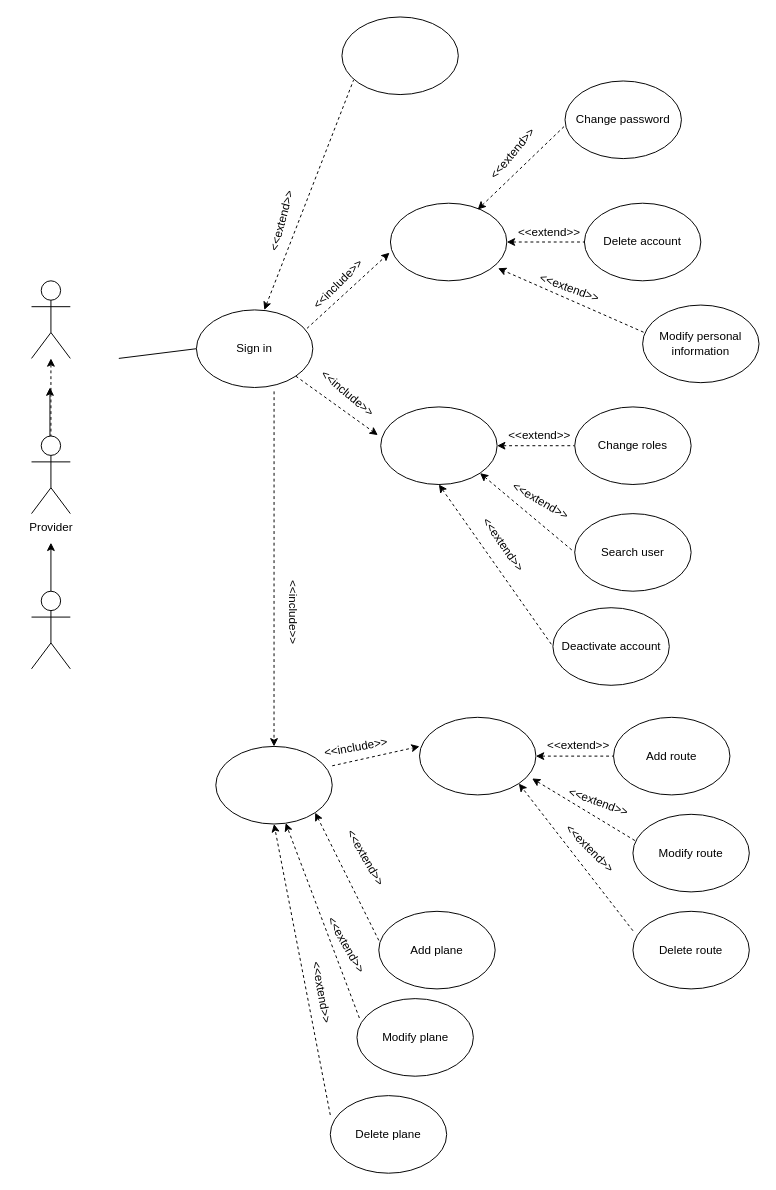
The diagram is 776 pixels wide and 1190 high, and some of its shapes have lost their labels. The box of each missing label's shape, as (x1, y1, x2, y2) in pixels:
Administrator: (31, 590, 70, 669)
Client: (31, 280, 70, 358)
Login: (341, 16, 458, 95)
Manage commercial routes: (419, 716, 536, 795)
Manage permissions: (380, 406, 497, 485)
Manage planes: (215, 745, 332, 824)
Manage profile: (389, 202, 507, 281)
